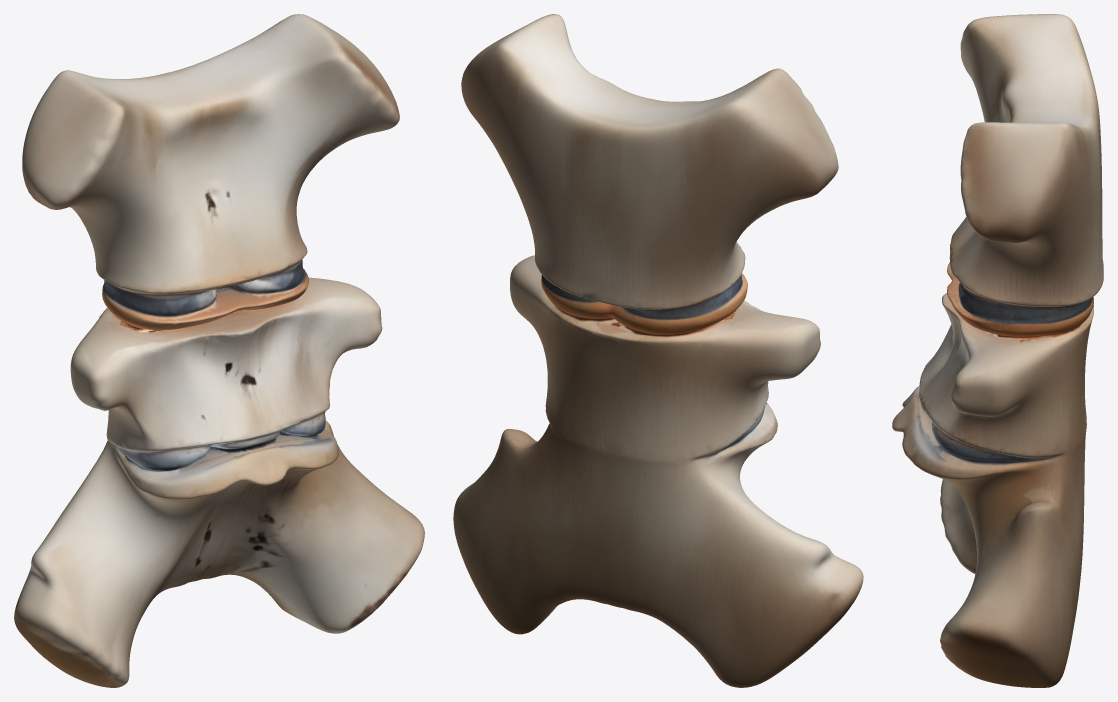
The model's file is horse-spine-lumbar.glb.
3 views of the same model, side by side, from view 1: azimuth 30°, elevation 25°; view 2: azimuth 150°, elevation 25°; view 3: azimuth 270°, elevation 25° (orthographic). The views are drawn at different scales.
Visible parts, largest first — view 1: model; view 2: model; view 3: model.
Boxes of the visible parts, left/top/right/bottom form: model: left=14, top=14, right=424, bottom=687; model: left=453, top=14, right=863, bottom=687; model: left=892, top=14, right=1103, bottom=687.
Bounding box in the file's own units: 1.32 × 1.9 × 0.6473.
1 material, 1 textured.
